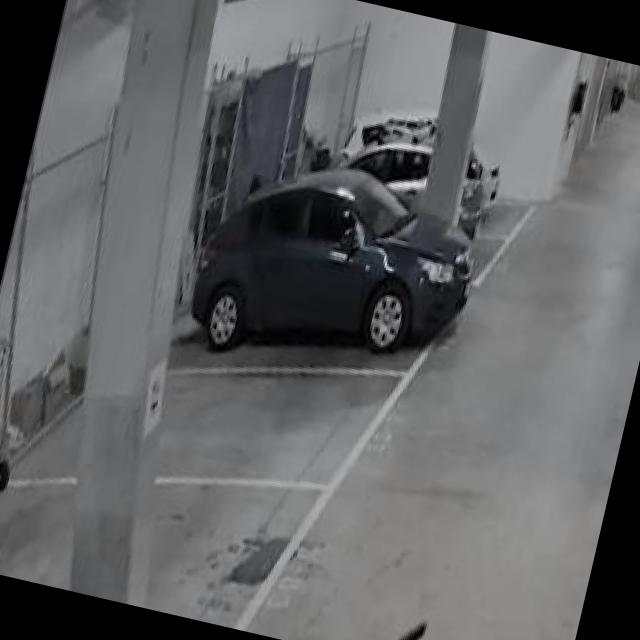Guns: (376, 605, 434, 640)
